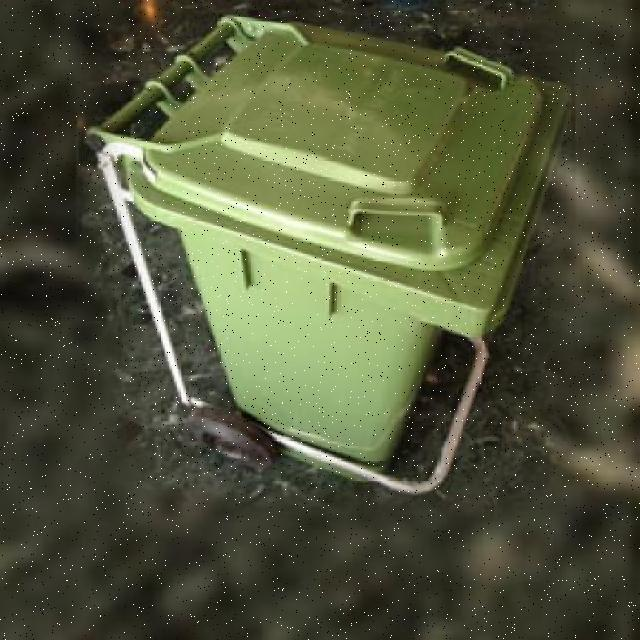garbage container: (80, 14, 594, 522)
